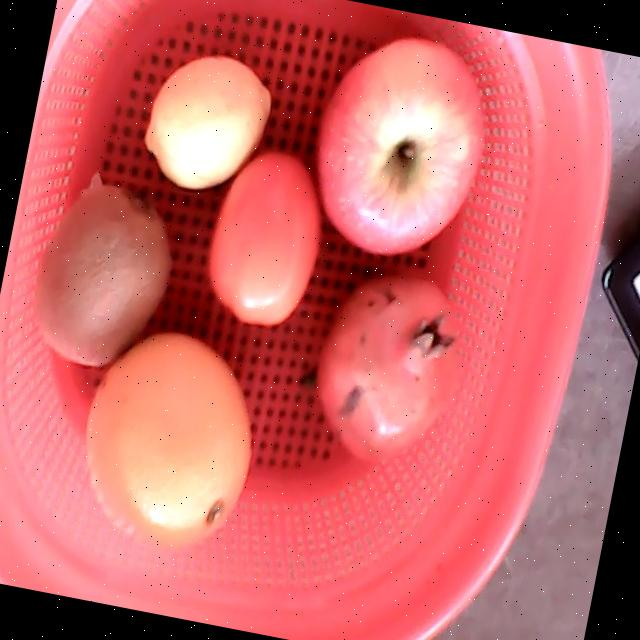apple: (316, 37, 484, 255)
kiwi: (32, 187, 168, 363)
lemon: (144, 55, 270, 189)
orange: (85, 331, 250, 549)
pomegranate: (316, 274, 454, 460)
tomato: (208, 153, 319, 325)
